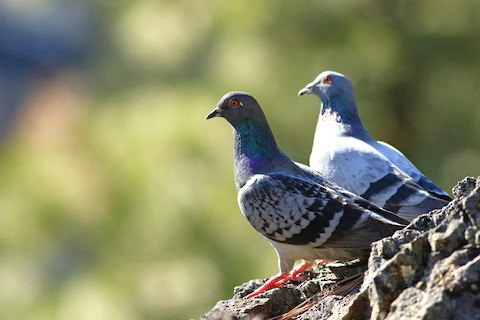pigeon: (199, 88, 429, 305), (294, 68, 474, 249)
